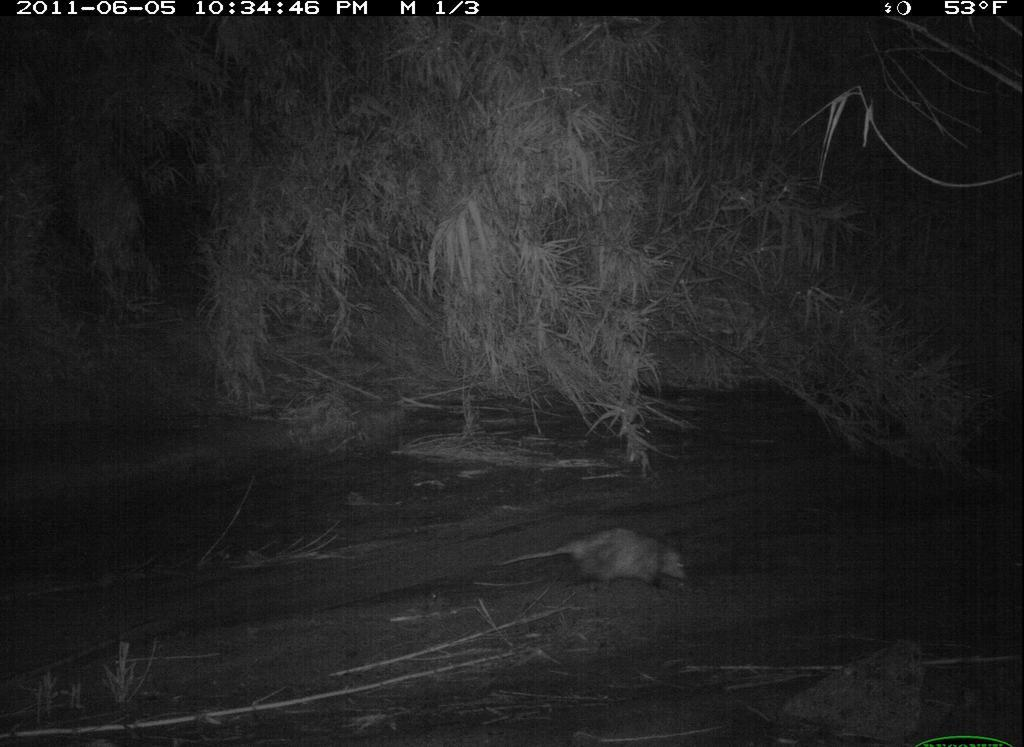opossum: (506, 514, 708, 602)
